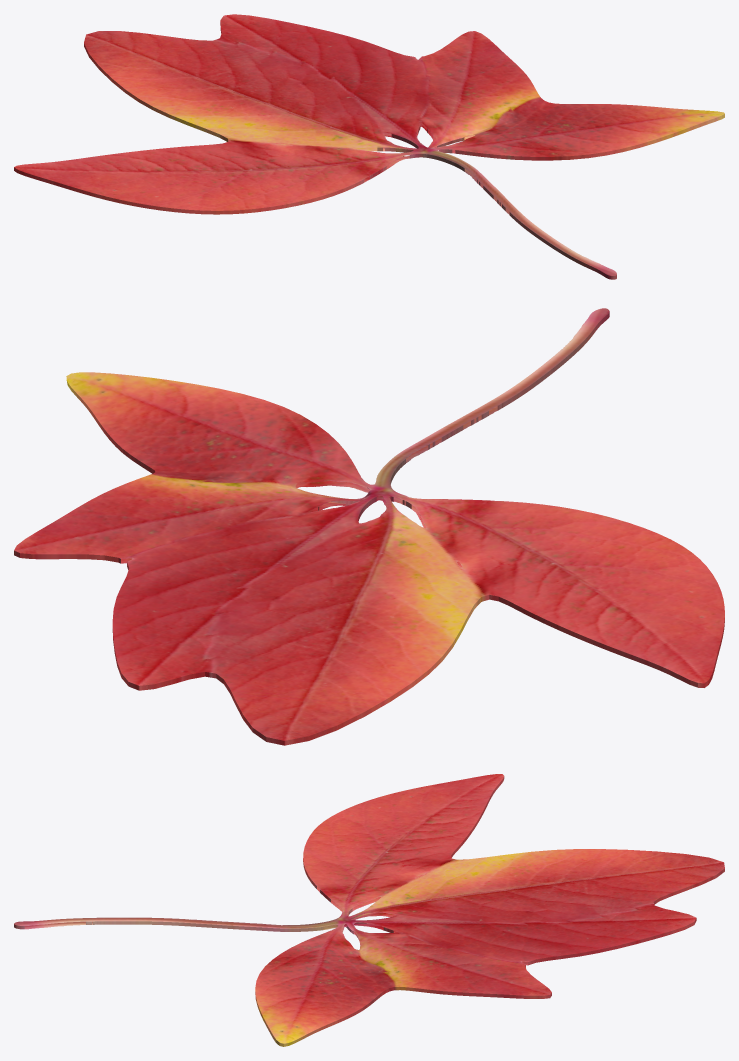
The model's file is leaf_3_atlas.fbx.
3 renders of one model, top to bottom at view 1: azimuth 30°, elevation 25°; view 2: azimuth 150°, elevation 25°; view 3: azimuth 270°, elevation 25°, orthographic. The views are drawn at different scales.
Visible parts, largest first — view 1: leaf_3; view 2: leaf_3; view 3: leaf_3.
Boxes of the visible parts, bbox=[...] form: leaf_3: bbox=[14, 14, 724, 279]; leaf_3: bbox=[14, 308, 724, 745]; leaf_3: bbox=[14, 774, 724, 1046].
Size of the model in its own units: 172 by 3.13 by 193.
